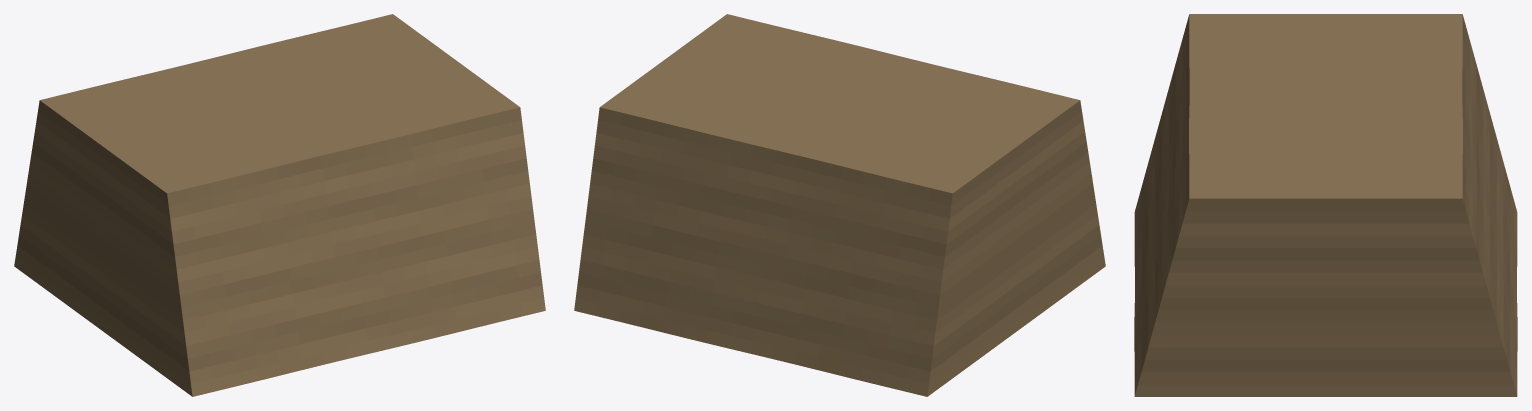
The model's file is earthwall-A-LOD1.glb.
3 renders of one model, left to right at view 1: azimuth 30°, elevation 25°; view 2: azimuth 150°, elevation 25°; view 3: azimuth 270°, elevation 25°, orthographic. The views are drawn at different scales.
Visible parts, largest first — view 1: earthwall-A-LOD1; view 2: earthwall-A-LOD1; view 3: earthwall-A-LOD1.
Part boxes in pixels (x1,y1,x2,y2): earthwall-A-LOD1: (14, 14, 545, 396); earthwall-A-LOD1: (574, 14, 1105, 396); earthwall-A-LOD1: (1134, 14, 1517, 396).
Size of the model in its own units: 16 by 8 by 14.02.
